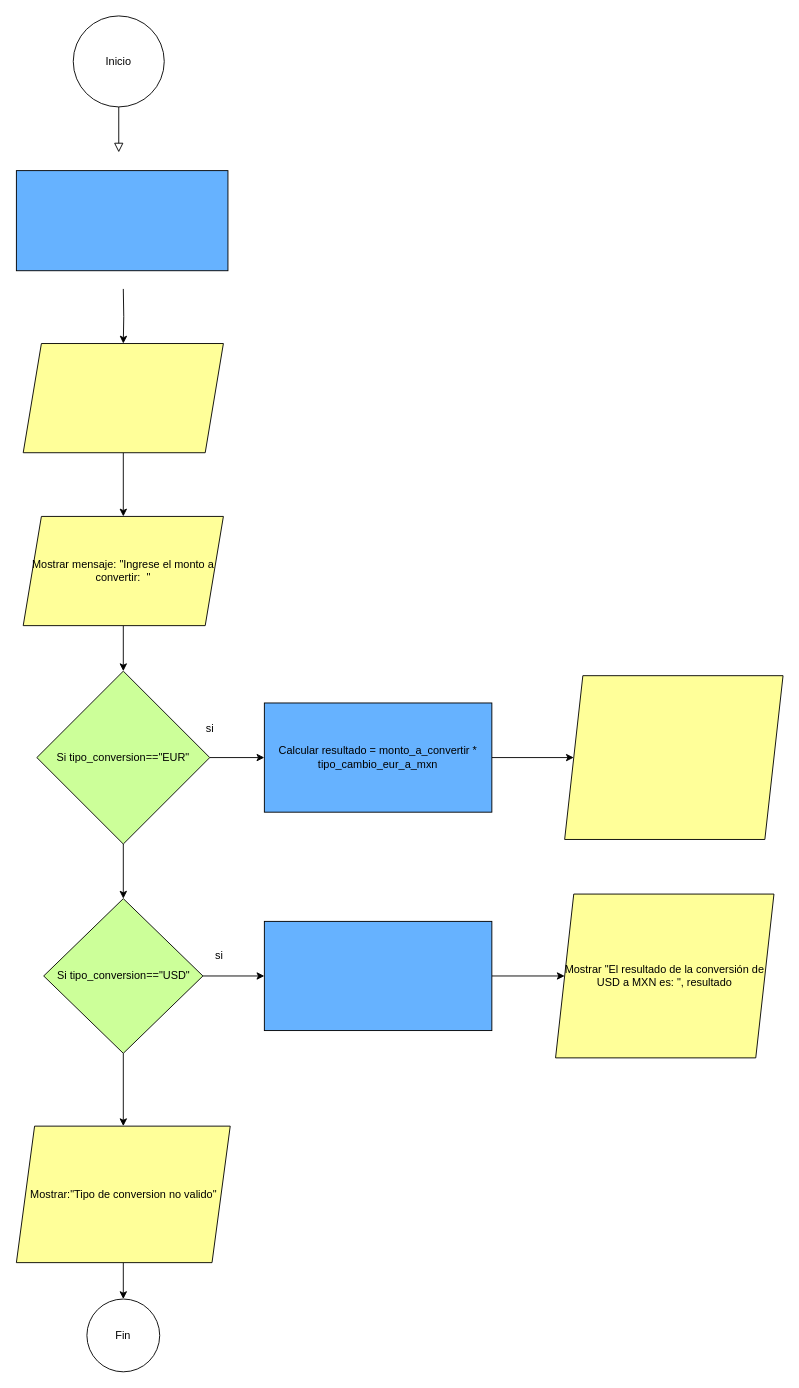
The diagram is 799 pixels wide and 1388 high, and some of its shapes have lost their labels. The centre of each missing label's shape, as x and y in pixels:
"Ingrese la moneda origen para la coversion (Eur/USD): ": point (122, 398)
Calcular resultado = monto_a_convertir * tipo_cambio_usd_a_mxn: point (377, 975)
Definir tipo_cambio_eur_a_mxn = 23.7 Definir tipo_cambio_usd_a_mxn = 20.75: point (121, 220)
Mostrar "El esultado de la conversion de EUR a MXN es: ", resultado: point (673, 757)
